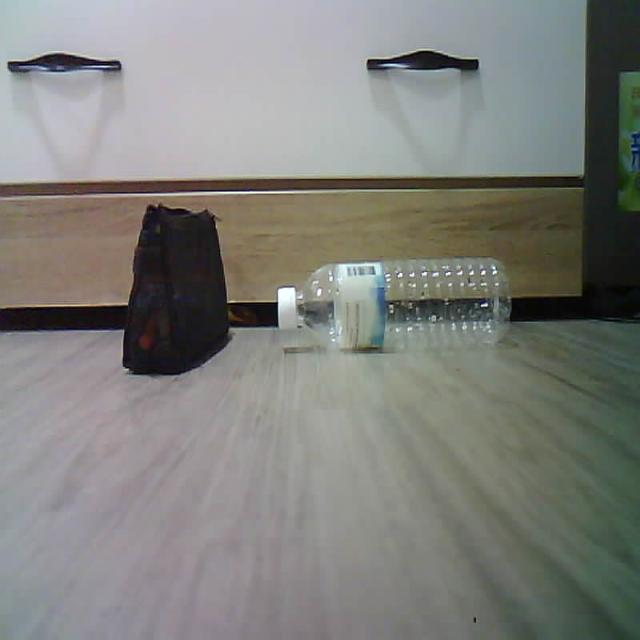bottle: (278, 257, 510, 351)
